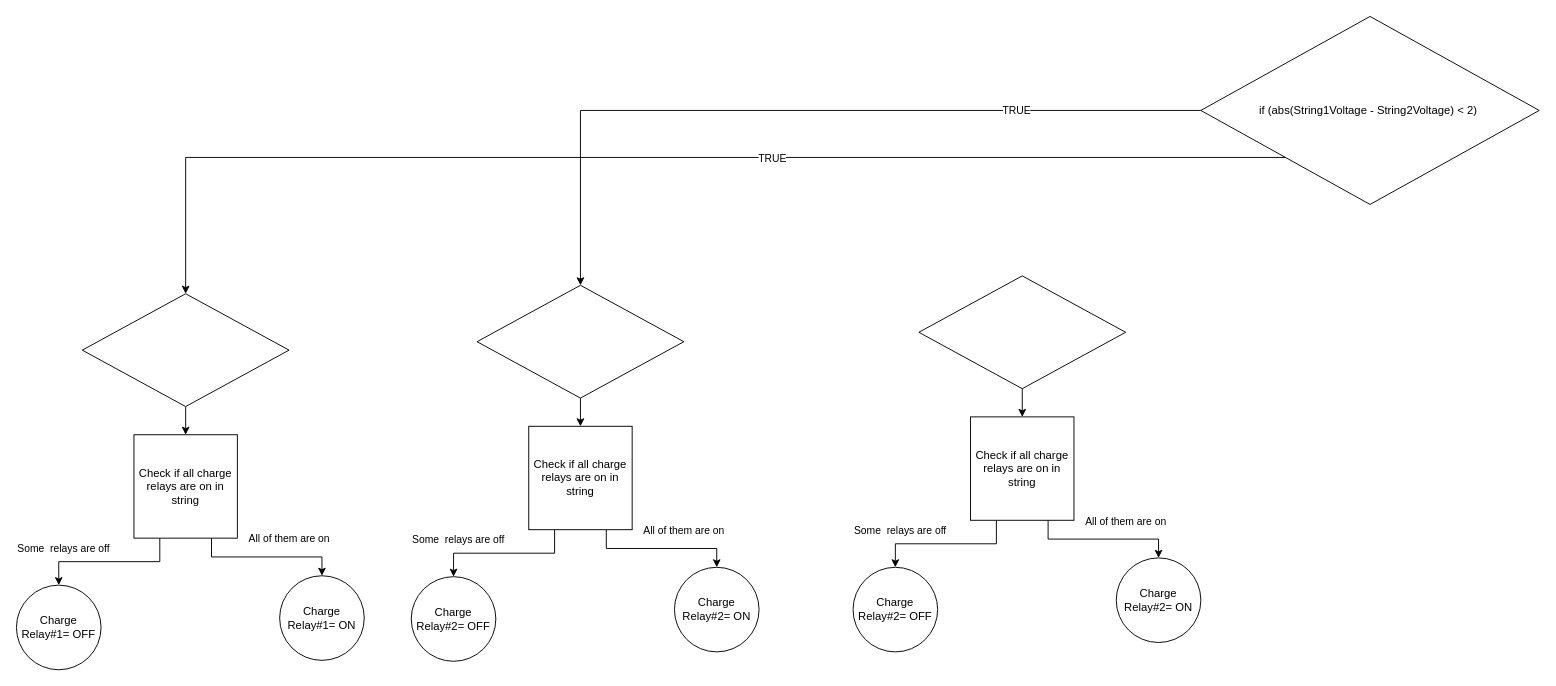
This 1556x686 diagram has some shape labels left out. Each missing label, with the centre of its shape:
if (String1Voltage < HighVoltageAlarmStart): point 185,350
if (String1Voltage > LowVoltageAlarmStart): point 1022,332
if (String2Voltage < HighVoltageAlarmStart): point 580,341
